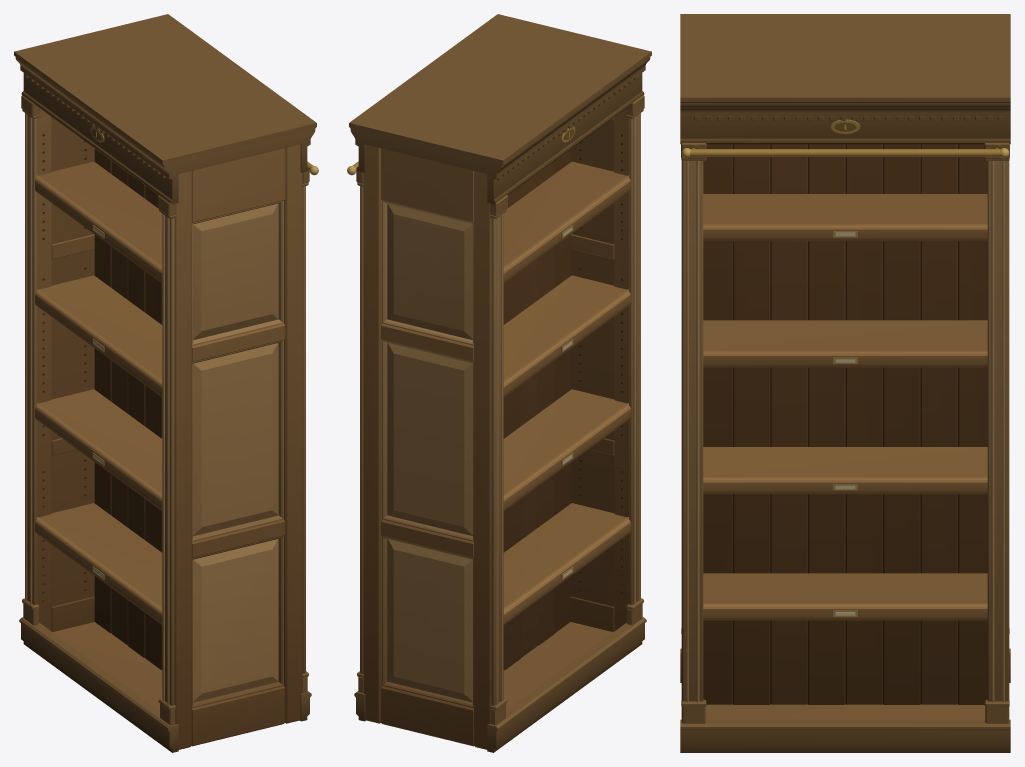
Rendered from stack-shelf.glb.
The picture shows the model from 3 angles, left to right: view 1: azimuth 30°, elevation 25°; view 2: azimuth 150°, elevation 25°; view 3: azimuth 270°, elevation 25°; orthographic projection. The views are drawn at different scales.
Visible parts, largest first — view 1: stack_shelf; view 2: stack_shelf; view 3: stack_shelf.
Boxes of the visible parts, box(x1,y1,x2,y2) form: stack_shelf: box(14, 14, 318, 752); stack_shelf: box(347, 14, 651, 752); stack_shelf: box(680, 14, 1010, 752).
Bounding box in the file's own units: 0.6149 × 2.2 × 1.
